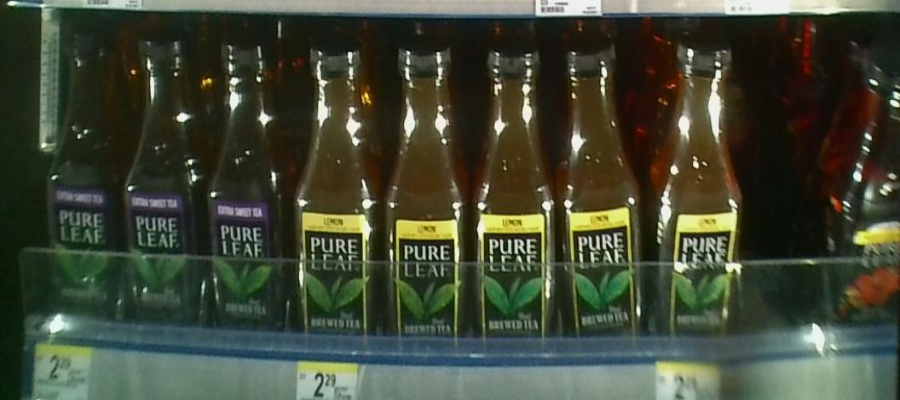bottle: (472, 27, 562, 364), (383, 28, 470, 364), (562, 30, 649, 364), (296, 38, 380, 362), (652, 39, 741, 342), (124, 22, 205, 353), (208, 35, 291, 358), (44, 29, 124, 351), (832, 55, 900, 350)
